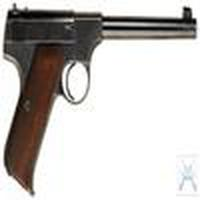gun: (6, 11, 200, 185)
